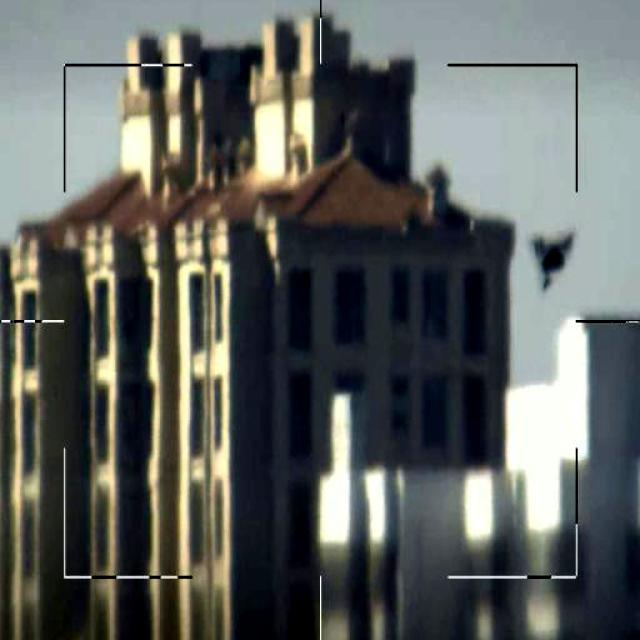bird: (526, 229, 578, 296)
